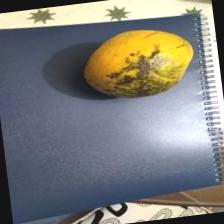Orange Rotten: (73, 14, 204, 117)
